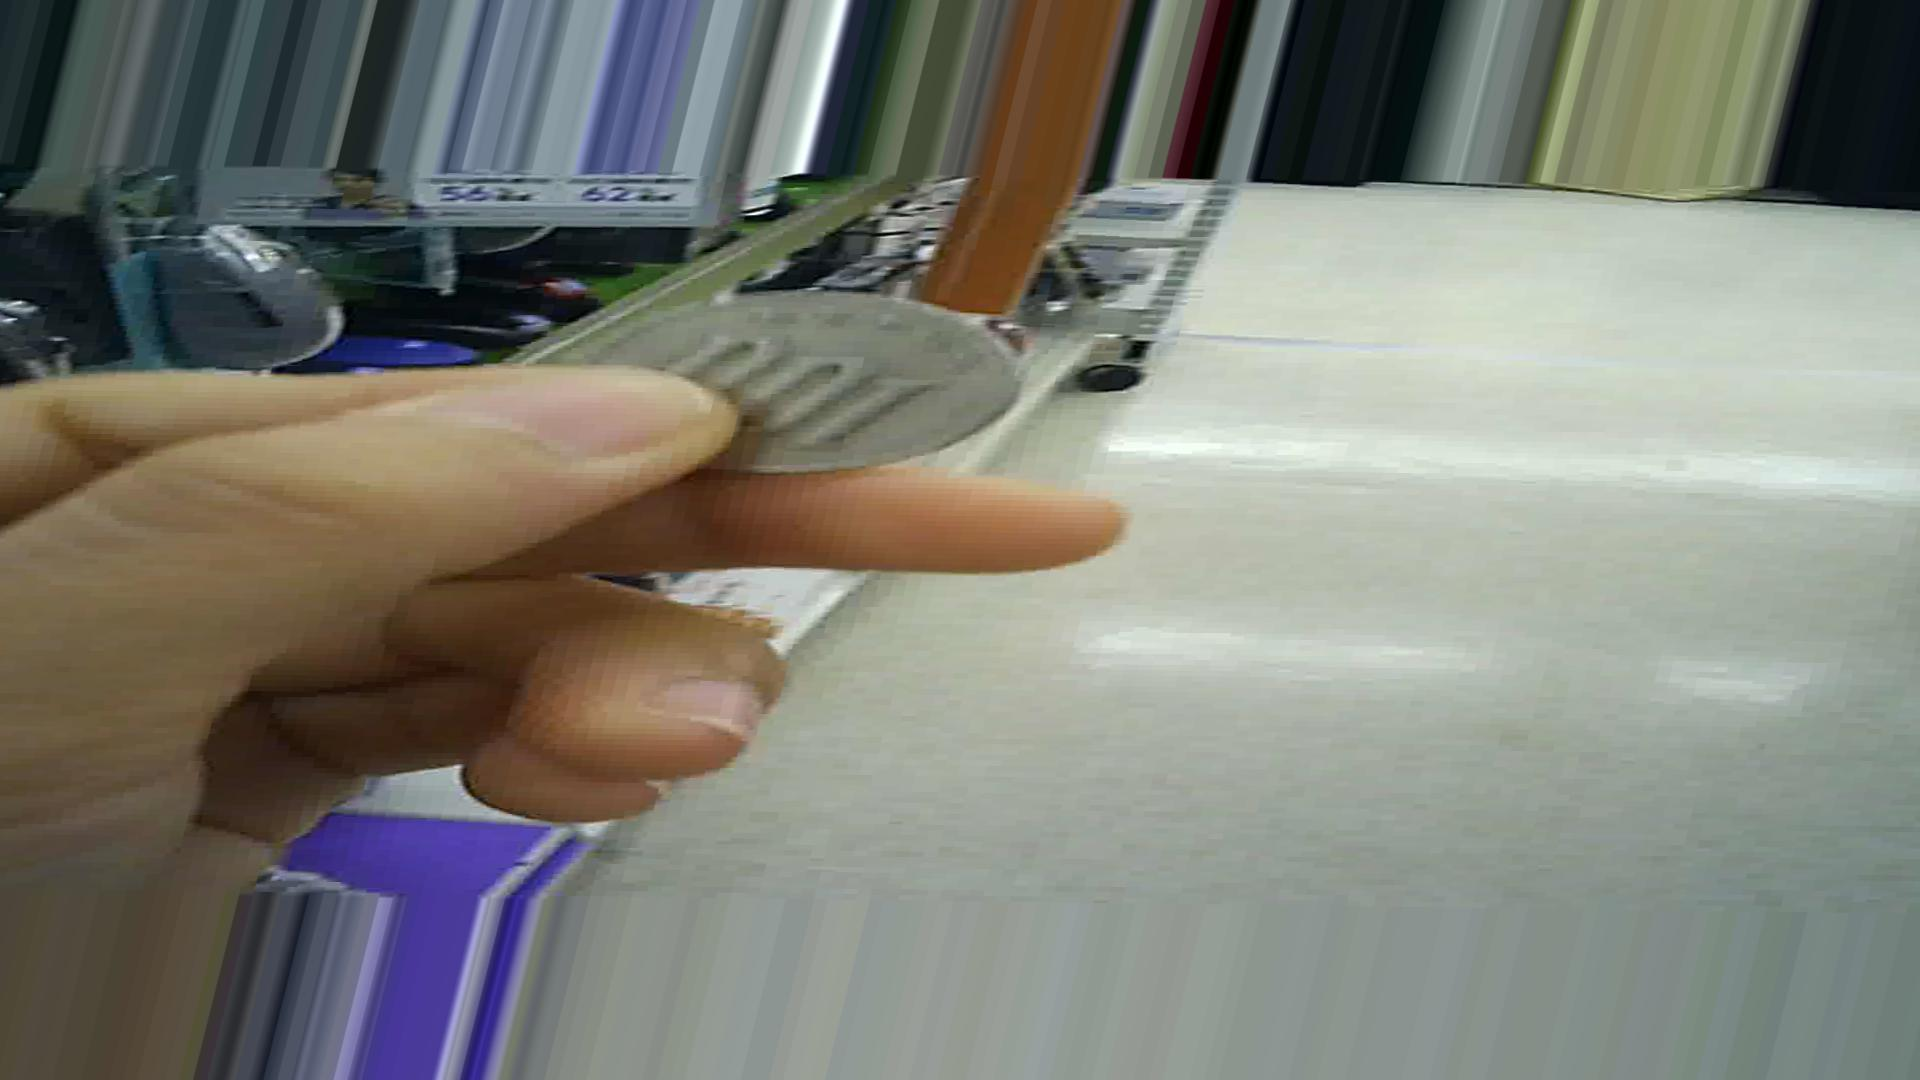100 Yen: (607, 281, 1029, 485)
